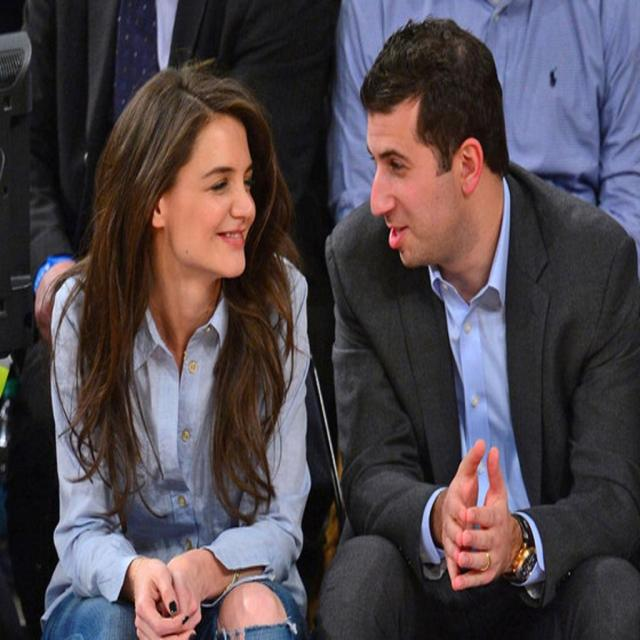Face: (172, 111, 260, 288), (362, 98, 443, 278)
